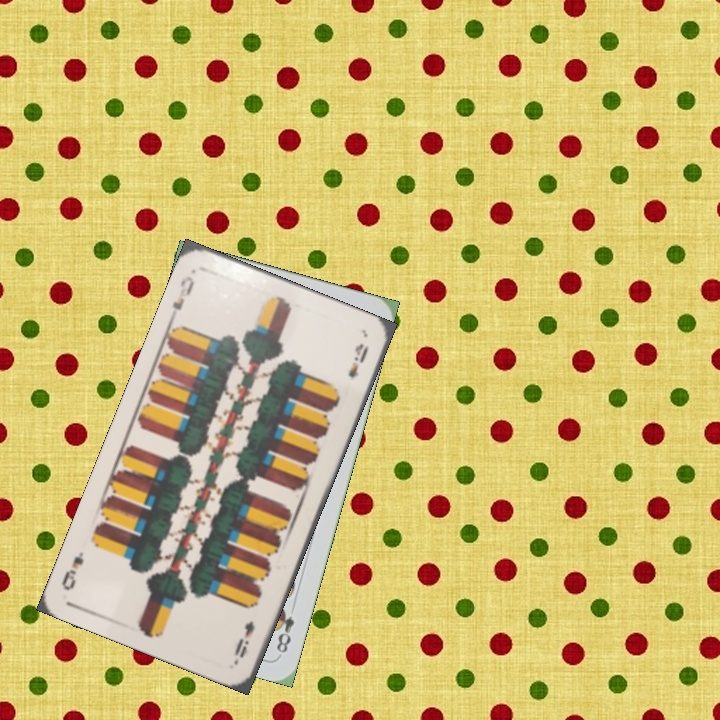E8: (271, 603, 297, 656)
E9: (168, 271, 197, 324), (230, 616, 258, 661)
